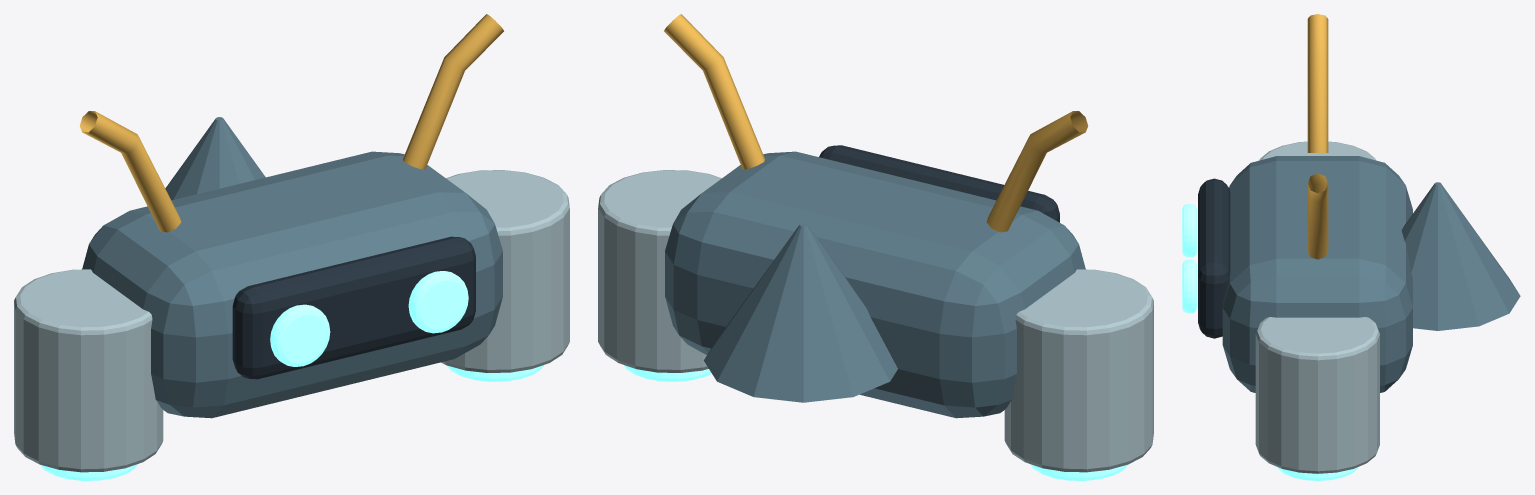
The model's file is SM_FlyerWasp.fbx.
3 views of the same model, side by side, from view 1: azimuth 30°, elevation 25°; view 2: azimuth 150°, elevation 25°; view 3: azimuth 270°, elevation 25° (orthographic). The views are drawn at different scales.
Parts seen in each view (by area): view 1: SM_FlyerWasp; view 2: SM_FlyerWasp; view 3: SM_FlyerWasp.
Part boxes in pixels (x1=…): SM_FlyerWasp: x1=14, y1=14, x2=569, y2=480; SM_FlyerWasp: x1=598, y1=14, x2=1153, y2=480; SM_FlyerWasp: x1=1182, y1=14, x2=1520, y2=480.
Bounding box in the file's own units: 124 × 81.75 × 77.01.
